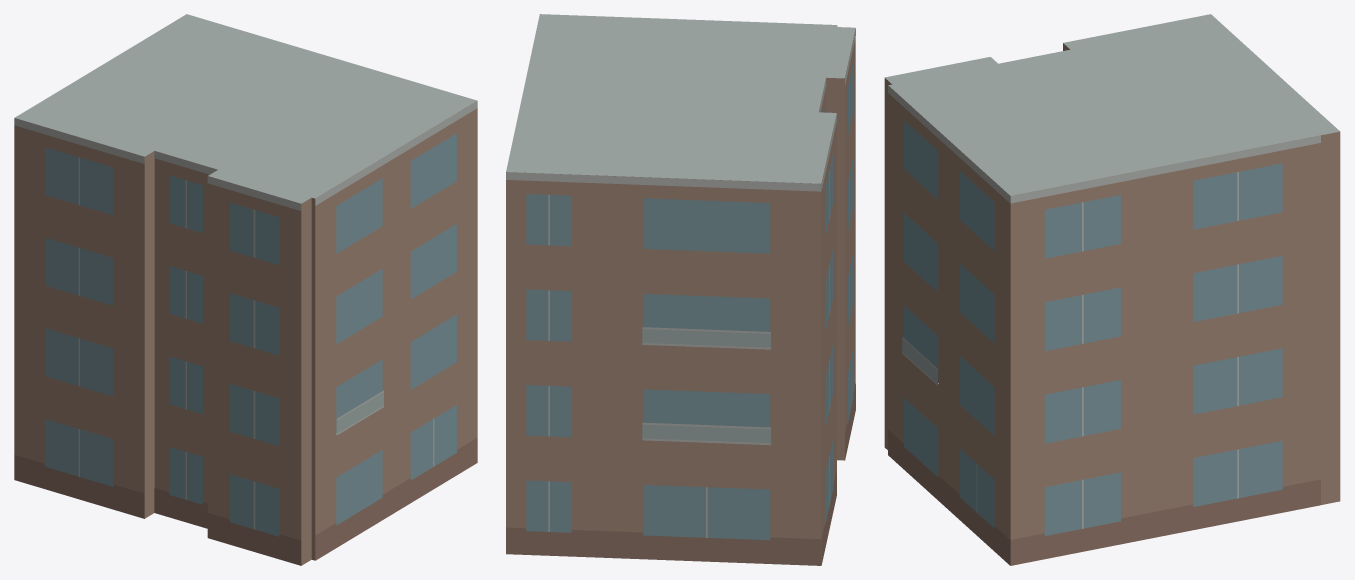
The model's file is survey-upis-32994618.glb.
The picture shows the model from 3 angles, left to right: view 1: azimuth 30°, elevation 25°; view 2: azimuth 150°, elevation 25°; view 3: azimuth 270°, elevation 25°; orthographic projection. The views are drawn at different scales.
Parts seen in each view (by area): view 1: survey-upis-32994618.tmp; view 2: survey-upis-32994618.tmp; view 3: survey-upis-32994618.tmp.
Part boxes in pixels (x1=…): survey-upis-32994618.tmp: x1=14, y1=14, x2=477, y2=565; survey-upis-32994618.tmp: x1=506, y1=14, x2=855, y2=565; survey-upis-32994618.tmp: x1=884, y1=14, x2=1340, y2=565.
Bounding box in the file's own units: 12.57 × 11.9 × 13.3.
